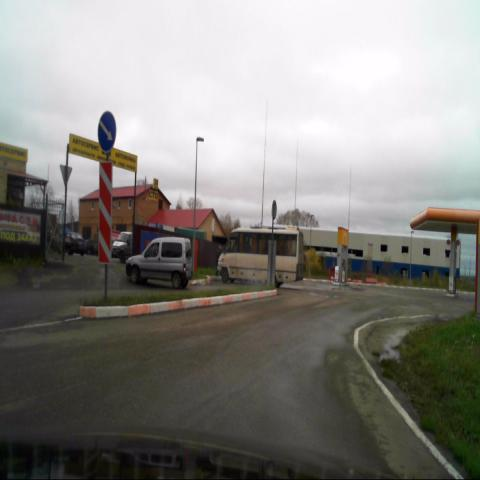4_2_1: (98, 109, 117, 154)
